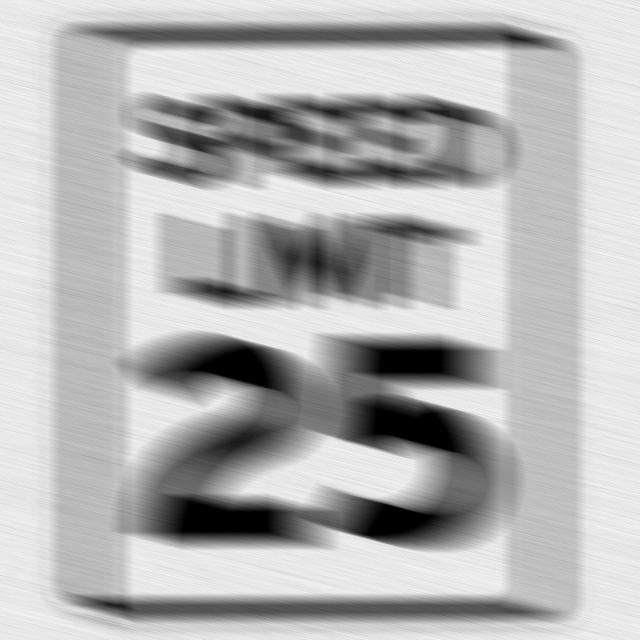speedLimit25: (67, 18, 566, 630)
